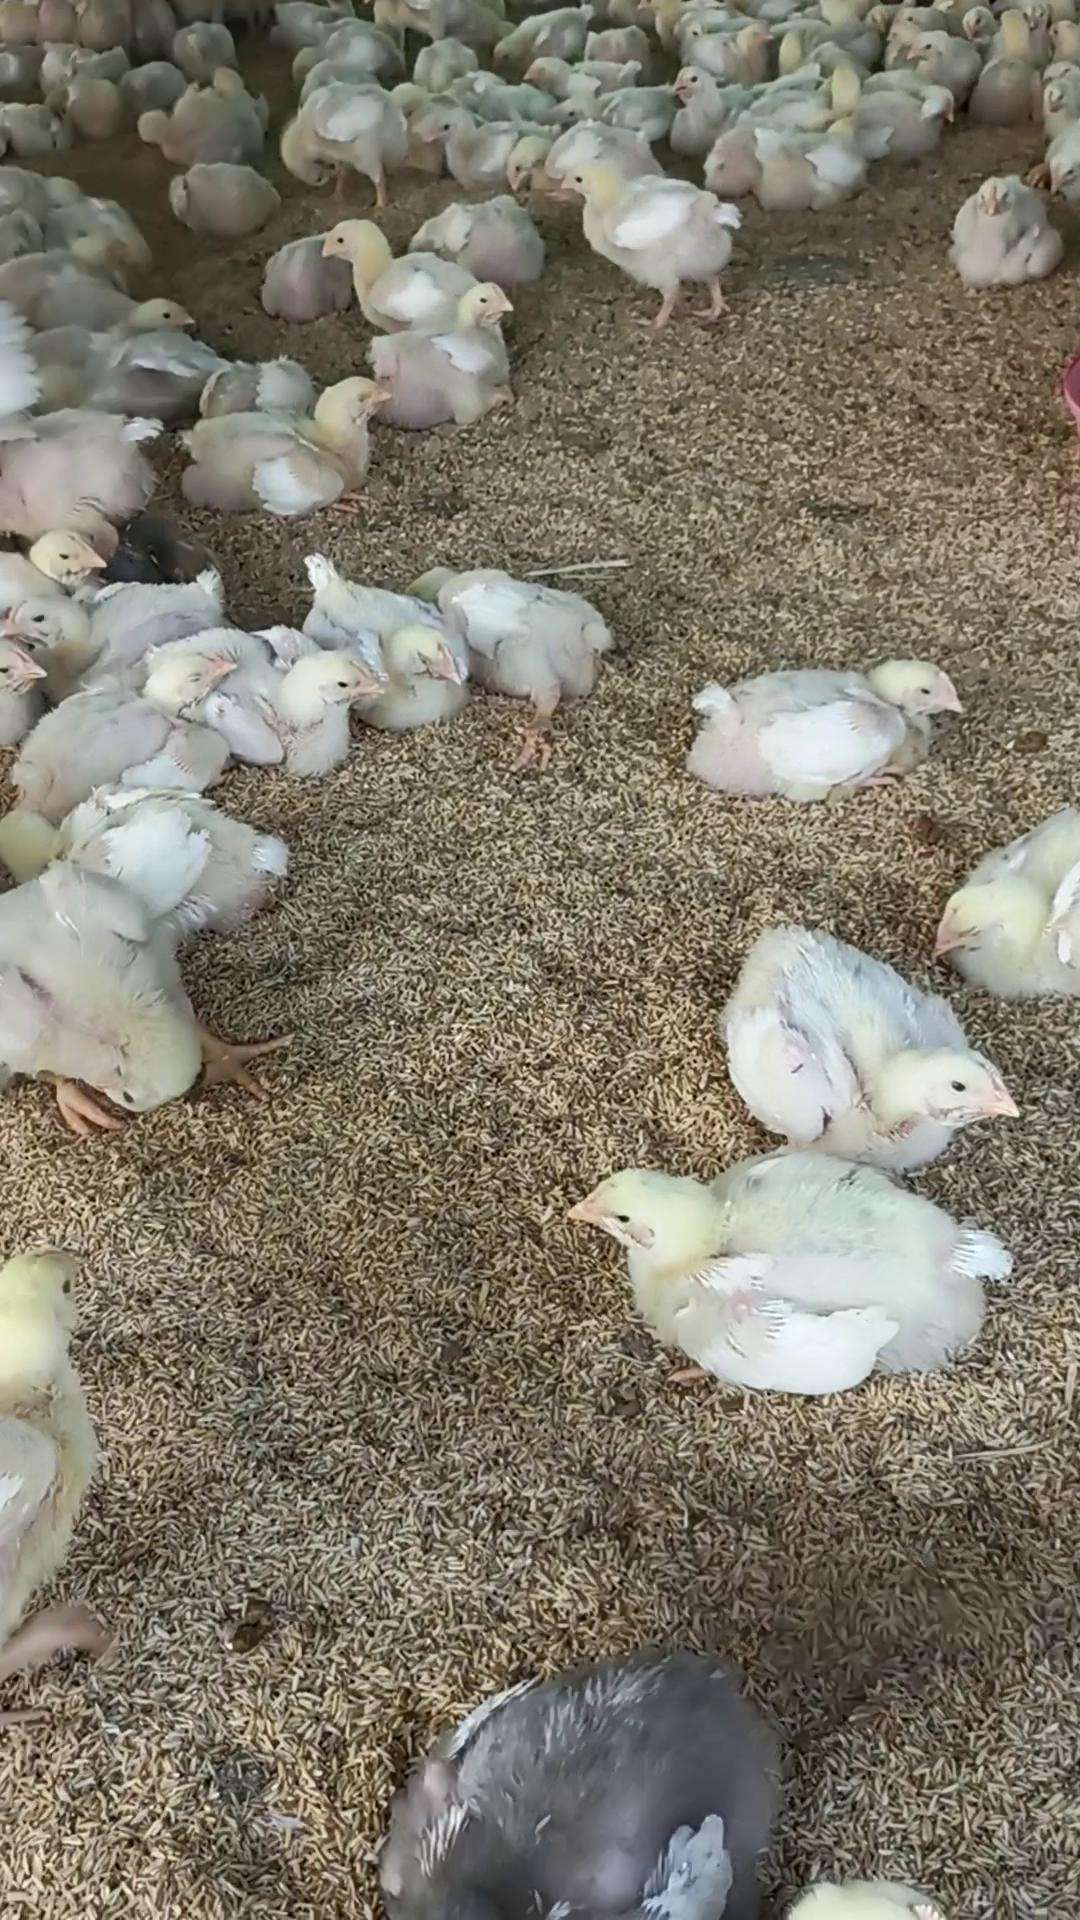Pollos: (560, 1160, 1010, 1390), (733, 913, 1025, 1180), (680, 644, 975, 803), (20, 653, 222, 818), (179, 382, 393, 506), (938, 796, 1072, 992), (222, 626, 382, 767), (13, 294, 196, 413), (556, 160, 736, 280), (464, 566, 616, 705), (386, 282, 512, 426), (1, 585, 222, 651), (282, 82, 409, 193), (322, 222, 462, 319), (949, 171, 1067, 286), (386, 593, 460, 720), (673, 61, 742, 145), (910, 29, 975, 95)
